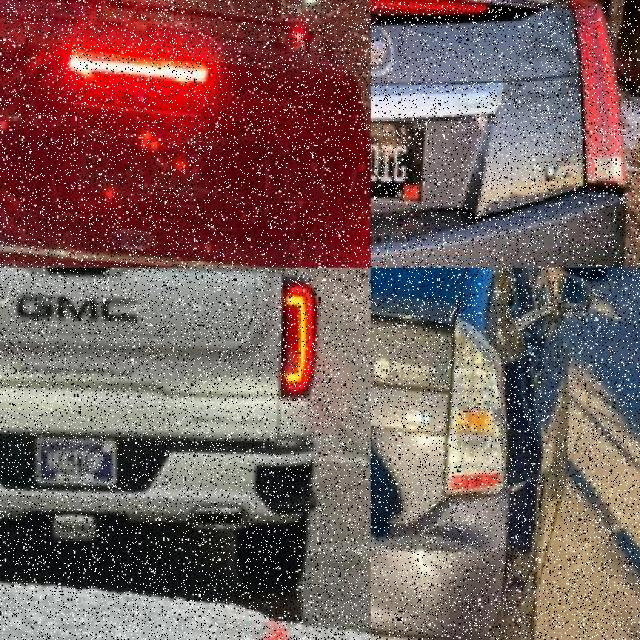licenseplate: (371, 119, 425, 207), (30, 437, 114, 488)
